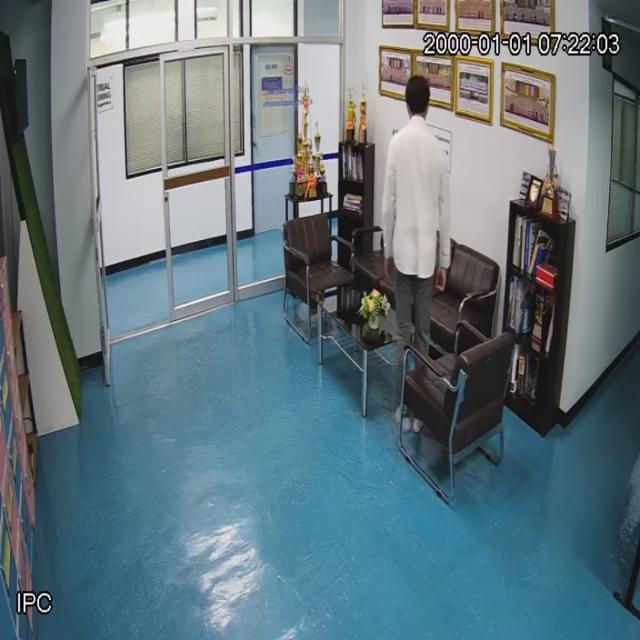normal: (378, 62, 450, 414)
